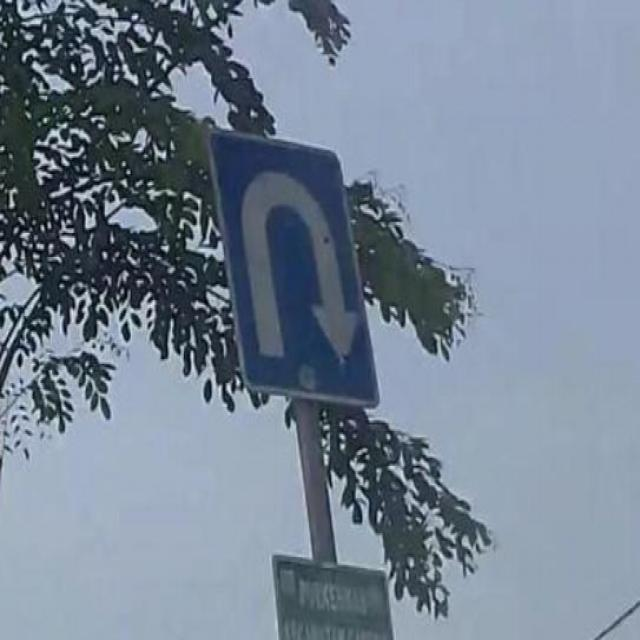traffic sign: (202, 123, 383, 404)
